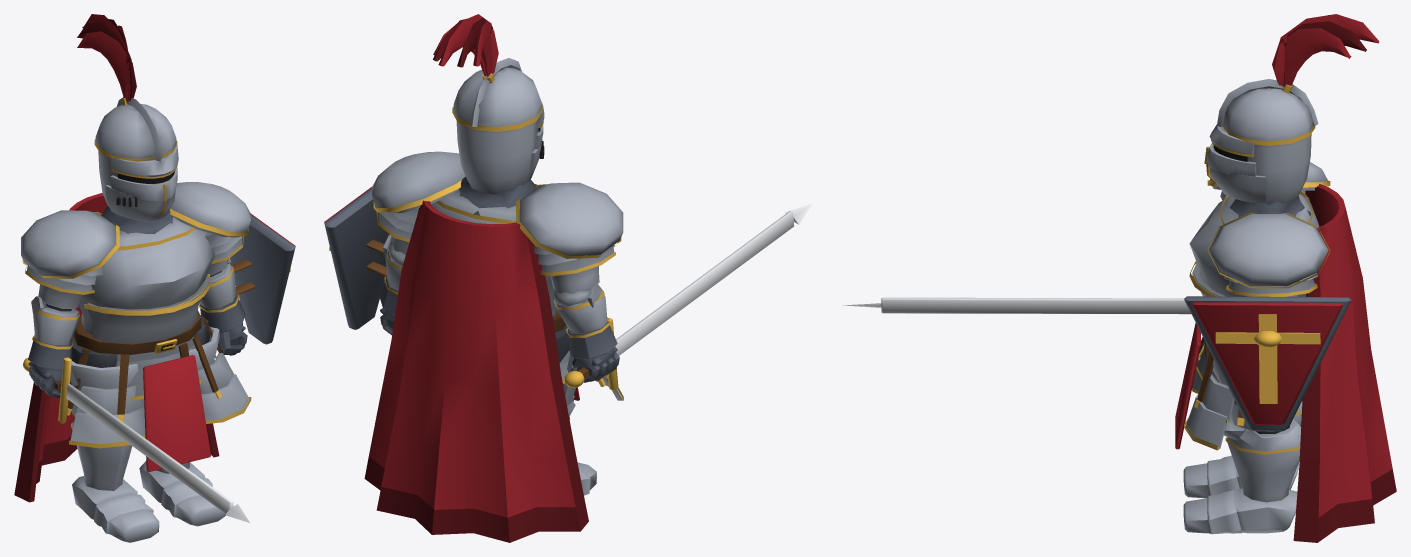
File: knight_d.glb
The picture shows the model from 3 angles, left to right: view 1: azimuth 30°, elevation 25°; view 2: azimuth 150°, elevation 25°; view 3: azimuth 270°, elevation 25°; orthographic projection. The views are drawn at different scales.
Visible parts, largest first — view 1: Torso, ArmR_Pauldron, Tabard, Fauld, ShieldRim, Belt, Cape, Helmet, ArmL_Pauldron, Blade, HelmetDome, LegR_Foot (+16 smaller); view 2: Cape, ArmR_Pauldron, ShieldRim, Helmet, ArmL_Pauldron, HelmetDome, Blade, Plume, ArmR_Vambrace, Torso, Gorget, ArmR_Gauntlet (+6 smaller); view 3: Cape, Shield, ArmL_Pauldron, ShieldRim, Helmet, Blade, HelmetDome, LegL_Foot, Plume, LegL_Sabaton, Torso, Fauld (+7 smaller).
Part boxes in pixels (x1=…): Torso: x1=79, y1=214, x2=214, y2=343; ArmR_Pauldron: x1=21, y1=210, x2=116, y2=308; Tabard: x1=143, y1=355, x2=211, y2=471; Fauld: x1=70, y1=337, x2=249, y2=444; ShieldRim: x1=230, y1=215, x2=295, y2=344; Belt: x1=67, y1=213, x2=251, y2=448; Cape: x1=14, y1=193, x2=219, y2=502; Helmet: x1=98, y1=144, x2=178, y2=221; ArmL_Pauldron: x1=171, y1=182, x2=250, y2=275; Blade: x1=23, y1=357, x2=249, y2=522; HelmetDome: x1=95, y1=97, x2=176, y2=161; LegR_Foot: x1=72, y1=476, x2=159, y2=542; Cape: x1=364, y1=200, x2=588, y2=542; ArmR_Pauldron: x1=519, y1=182, x2=623, y2=293; ShieldRim: x1=324, y1=188, x2=389, y2=329; Helmet: x1=456, y1=100, x2=544, y2=194; ArmL_Pauldron: x1=372, y1=151, x2=465, y2=254; HelmetDome: x1=453, y1=58, x2=541, y2=127; Blade: x1=564, y1=203, x2=812, y2=390; Plume: x1=433, y1=14, x2=498, y2=83; ArmR_Vambrace: x1=554, y1=283, x2=610, y2=337; Torso: x1=431, y1=187, x2=557, y2=315; Gorget: x1=459, y1=176, x2=536, y2=215; ArmR_Gauntlet: x1=567, y1=321, x2=617, y2=359; Cape: x1=1293, y1=183, x2=1396, y2=542; Shield: x1=1192, y1=302, x2=1342, y2=424; ArmL_Pauldron: x1=1209, y1=213, x2=1328, y2=296; ShieldRim: x1=1184, y1=296, x2=1351, y2=431; Helmet: x1=1206, y1=124, x2=1311, y2=204; Blade: x1=842, y1=297, x2=1191, y2=314; HelmetDome: x1=1217, y1=79, x2=1318, y2=145; LegL_Foot: x1=1183, y1=488, x2=1297, y2=534; Plume: x1=1272, y1=14, x2=1379, y2=93; LegL_Sabaton: x1=1227, y1=419, x2=1301, y2=502; Torso: x1=1189, y1=194, x2=1319, y2=296; Fauld: x1=1185, y1=342, x2=1234, y2=449.
Bounding box in the file's own units: 0.9446 × 1.7 × 1.72.
